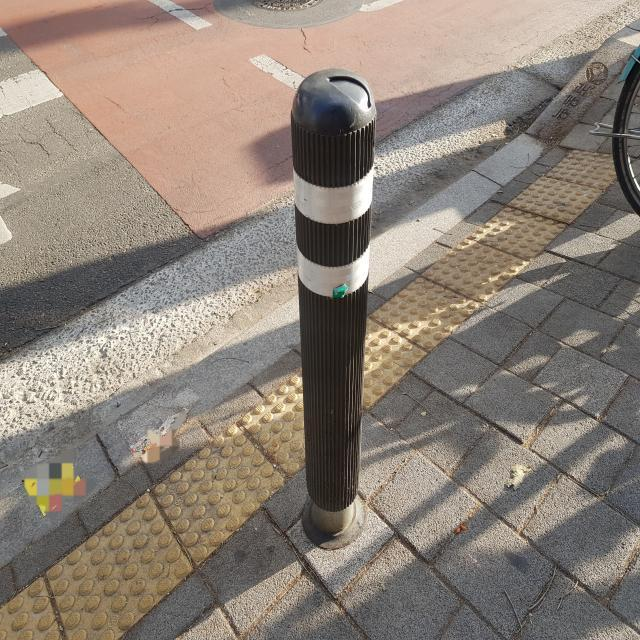pole: (290, 68, 374, 539)
